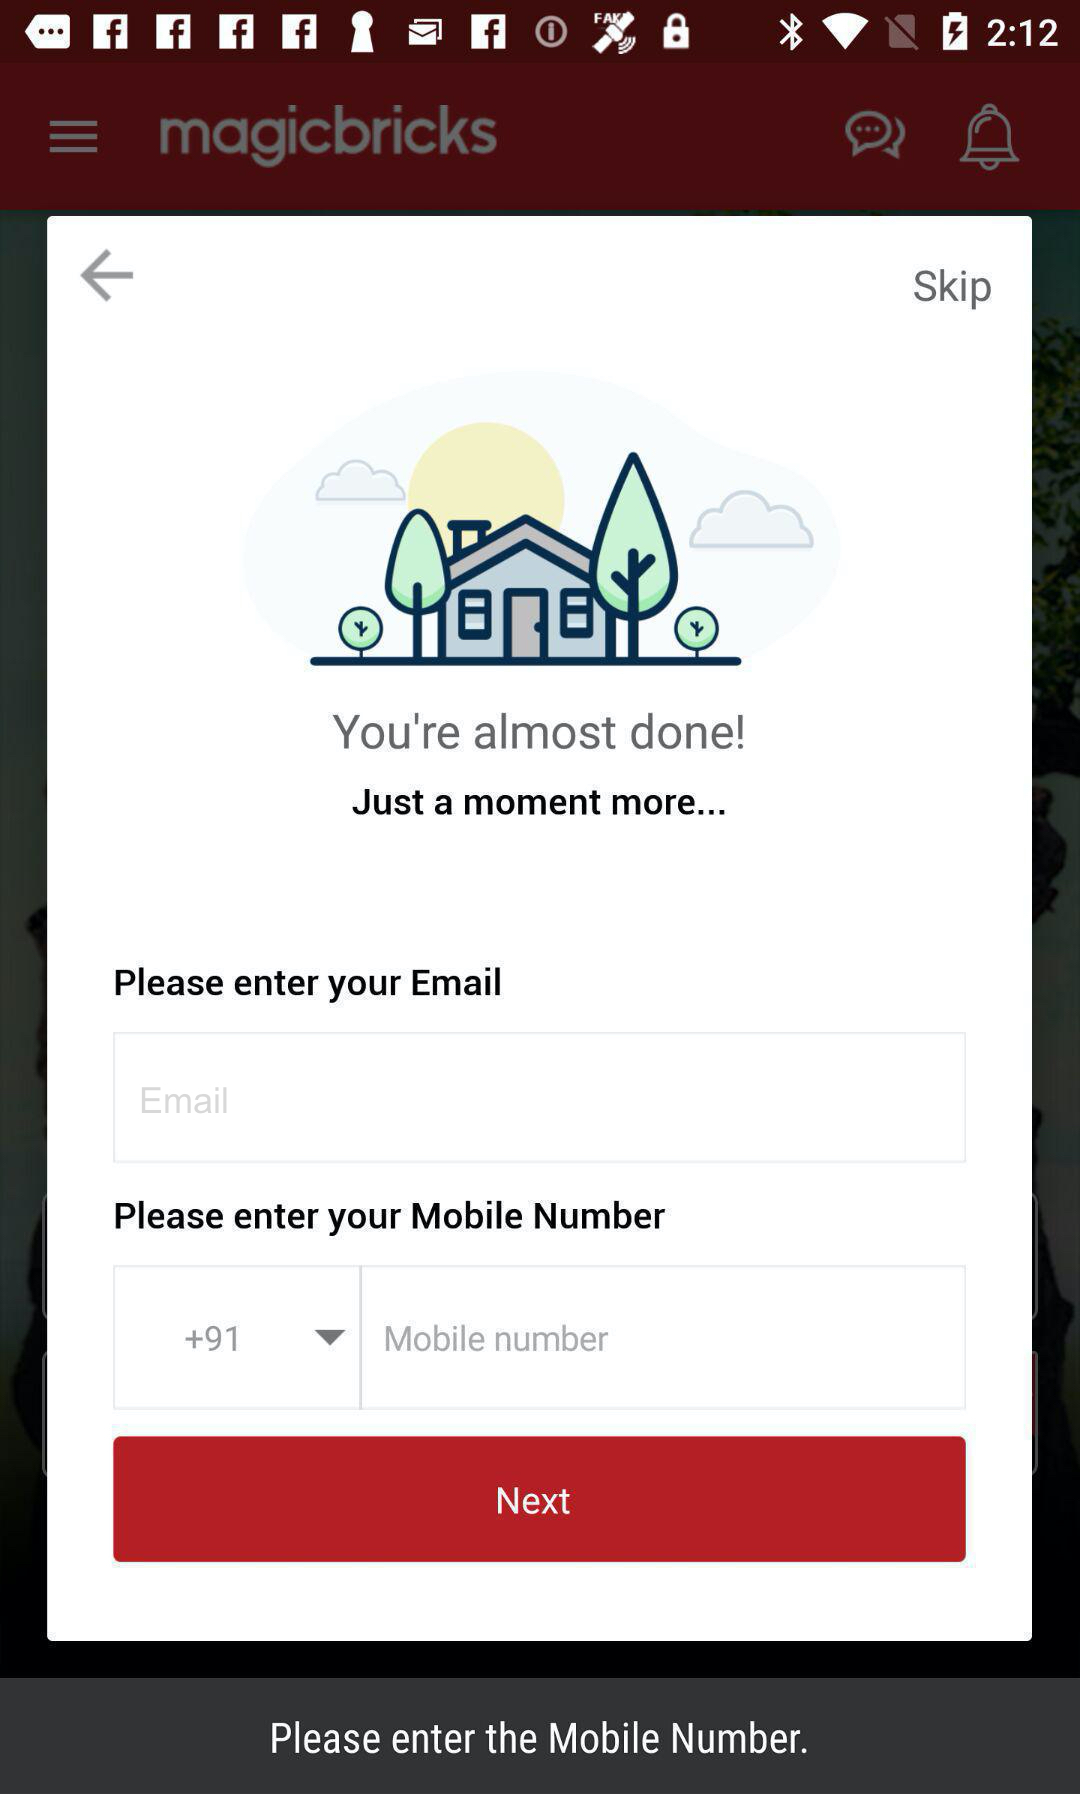EditText: (113, 1032, 966, 1164), (361, 1265, 967, 1411)
Icon: (958, 104, 1021, 172), (844, 111, 906, 161), (81, 249, 135, 302), (49, 120, 100, 156)
Image: (242, 372, 843, 668)
Modal: (47, 217, 1033, 1642)
Text: (160, 105, 498, 170), (115, 1201, 665, 1237), (333, 712, 744, 750), (117, 967, 501, 1005), (354, 789, 725, 816), (386, 1324, 609, 1352), (915, 269, 992, 311), (143, 1087, 229, 1115)
TextButton: (1, 1677, 1080, 1794), (113, 1436, 967, 1563), (113, 1265, 361, 1411)
UpperTaskBar: (1, 1, 1080, 64)
